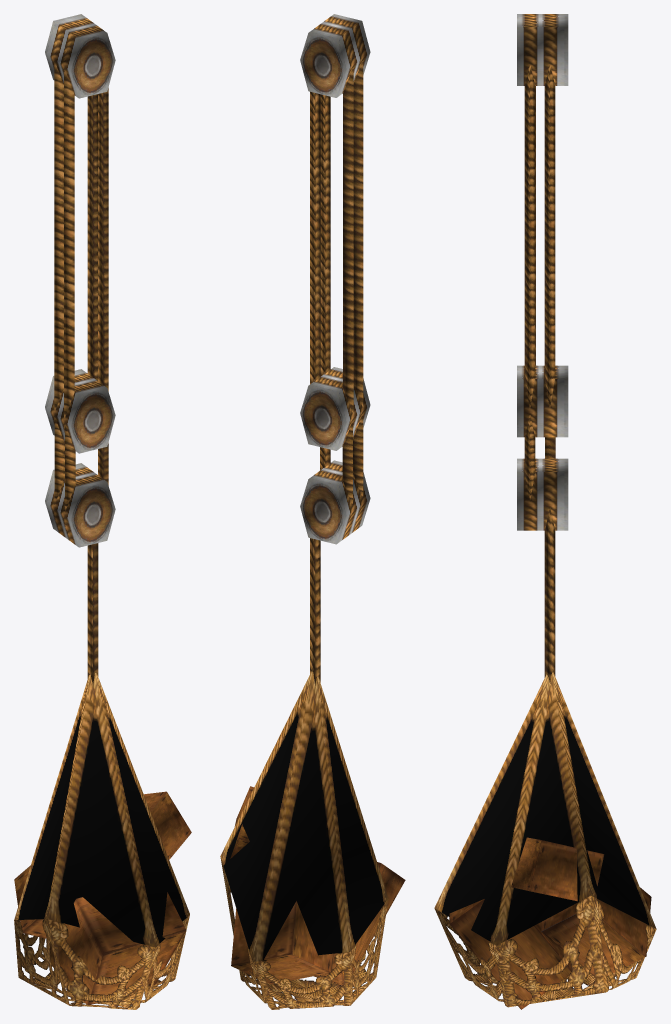
Rendered from deadminecargonethang.obj.
The picture shows the model from 3 angles, left to right: view 1: azimuth 30°, elevation 25°; view 2: azimuth 150°, elevation 25°; view 3: azimuth 270°, elevation 25°; orthographic projection.
Visible parts, largest first — view 1: 0, 1; view 2: 0, 1; view 3: 0, 1.
Boxes of the visible parts, box(x1,y1,x2,y2) form: 0: box(14, 14, 191, 1009); 1: box(14, 673, 189, 947); 0: box(220, 14, 405, 1009); 1: box(220, 671, 388, 961); 0: box(434, 14, 656, 1009); 1: box(434, 672, 656, 945).
Size of the model in its own units: 2.34 by 14.75 by 3.06.
Materials: 2 (2 with a texture image).
